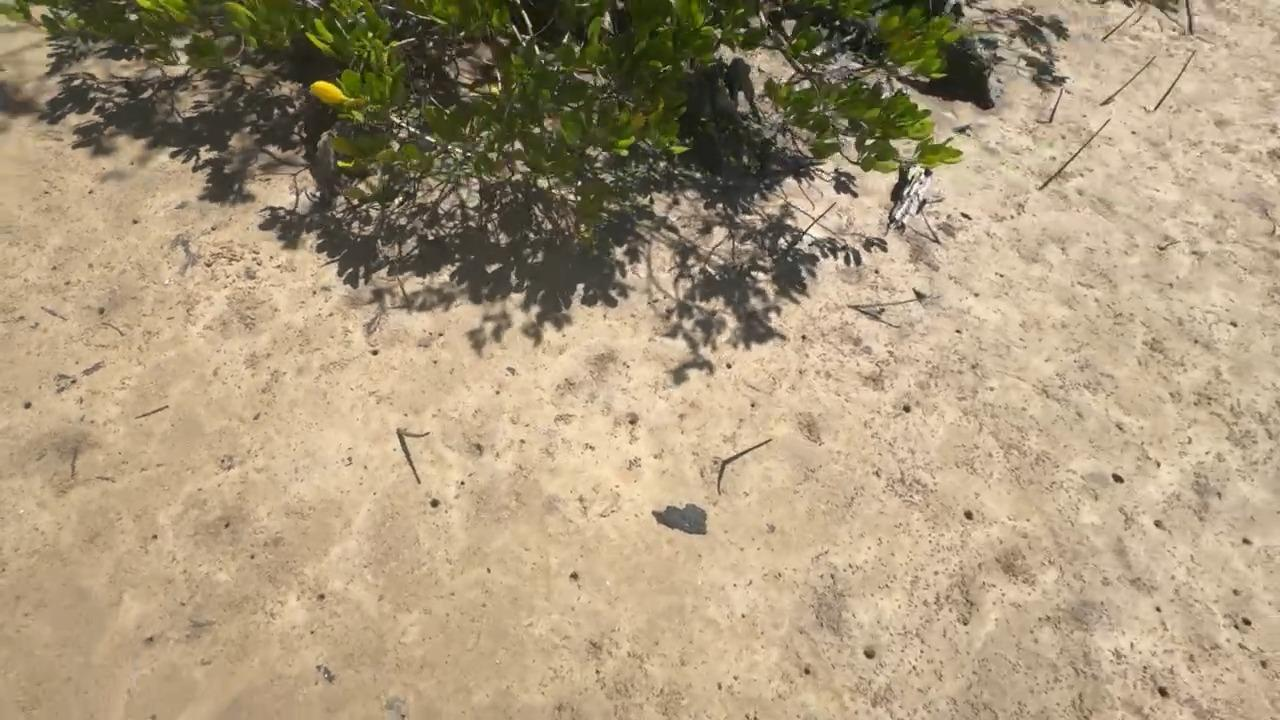Tree: (1039, 118, 1111, 191), (1100, 55, 1156, 104), (1154, 51, 1196, 111), (1103, 7, 1140, 41), (724, 439, 770, 464), (848, 298, 922, 311), (1049, 88, 1063, 122), (398, 430, 430, 438)
